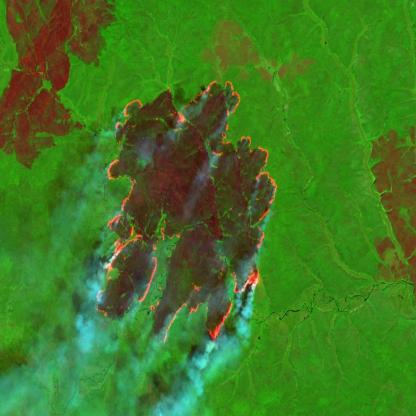fire: (98, 74, 278, 352)
